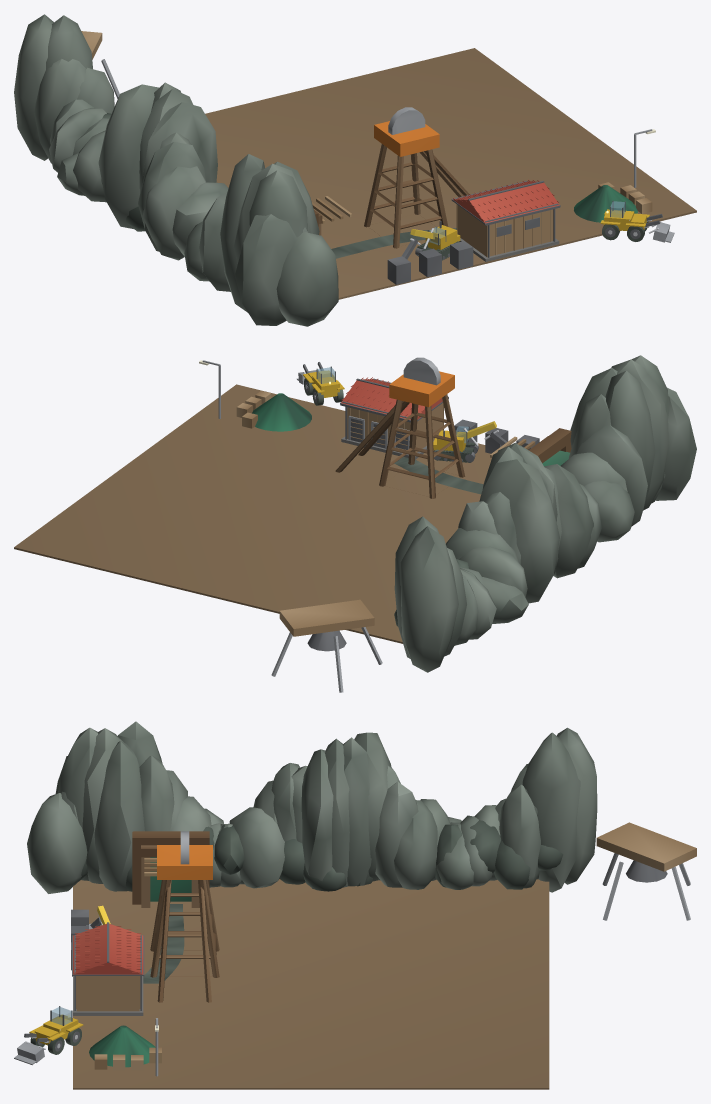
Rendered from Mine_P1.fbx.
3 views of the same model, one above another, from view 1: azimuth 30°, elevation 25°; view 2: azimuth 150°, elevation 25°; view 3: azimuth 270°, elevation 25° (orthographic). The views are drawn at different scales.
Parts seen in each view (by area): view 1: Mine.Apron, Mine.Cliff, Mine.Winder, Mine.Headframe, Mine.Clutter, Mine.Loader, Mine.Spoil0, Mine.Excav, Mine.Track0, Mine.Adit0, Mine.LoadGantry; view 2: Mine.Apron, Mine.Cliff, Mine.Headframe, Mine.Winder, Mine.LoadGantry, Mine.Spoil0, Mine.Clutter, Mine.Excav, Mine.Adit0, Mine.Loader, Mine.Track0; view 3: Mine.Apron, Mine.Cliff, Mine.Winder, Mine.Headframe, Mine.LoadGantry, Mine.Adit0, Mine.Loader, Mine.Spoil0, Mine.Clutter, Mine.Track0.
Part boxes in pixels (left/top/right/bottom): Mine.Apron: left=205, top=48, right=696, bottom=299; Mine.Cliff: left=14, top=14, right=338, bottom=326; Mine.Winder: left=451, top=179, right=560, bottom=261; Mine.Headframe: left=364, top=107, right=469, bottom=248; Mine.Clutter: left=387, top=182, right=652, bottom=284; Mine.Loader: left=600, top=200, right=674, bottom=242; Mine.Spoil0: left=574, top=185, right=637, bottom=222; Mine.Excav: left=402, top=221, right=460, bottom=260; Mine.Track0: left=331, top=228, right=456, bottom=258; Mine.Adit0: left=312, top=196, right=352, bottom=235; Mine.LoadGantry: left=81, top=31, right=119, bottom=98; Mine.Apron: left=14, top=384, right=491, bottom=643; Mine.Cliff: left=394, top=355, right=696, bottom=672; Mine.Headframe: left=335, top=357, right=465, bottom=498; Mine.Winder: left=340, top=377, right=448, bottom=459; Mine.LoadGantry: left=271, top=599, right=382, bottom=692; Mine.Spoil0: left=252, top=393, right=311, bottom=431; Mine.Clutter: left=236, top=391, right=539, bottom=453; Mine.Excav: left=433, top=421, right=506, bottom=462; Mine.Adit0: left=490, top=428, right=571, bottom=466; Mine.Loader: left=297, top=362, right=344, bottom=405; Mine.Track0: left=394, top=457, right=483, bottom=494; Mine.Apron: left=73, top=879, right=549, bottom=1089; Mine.Cliff: left=27, top=721, right=597, bottom=893; Mine.Winder: left=72, top=922, right=144, bottom=1015; Mine.Headframe: left=150, top=831, right=219, bottom=1002; Mine.LoadGantry: left=596, top=822, right=696, bottom=920; Mine.Adit0: left=132, top=831, right=209, bottom=907; Mine.Loader: left=14, top=1006, right=83, bottom=1065; Mine.Spoil0: left=89, top=1025, right=155, bottom=1067; Mine.Clutter: left=71, top=909, right=161, bottom=1070; Mine.Track0: left=143, top=904, right=184, bottom=983.
Bounding box in the file's own units: 8167 × 2692 × 9750.
